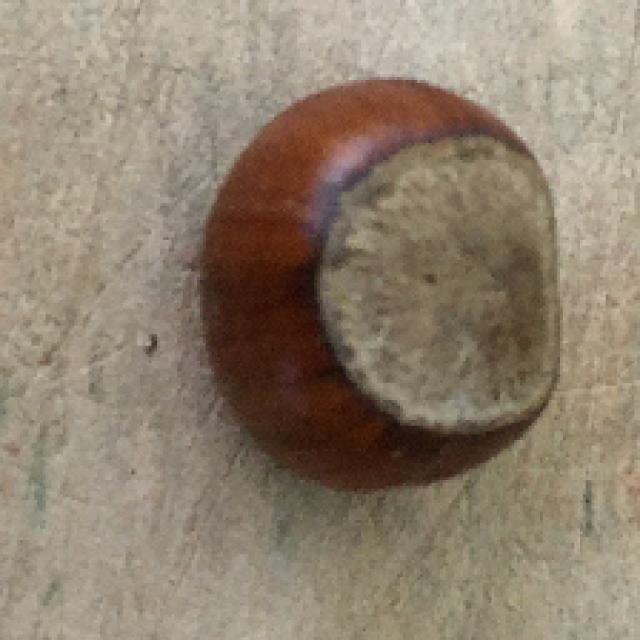qualityHazelnut: (199, 76, 564, 498)
